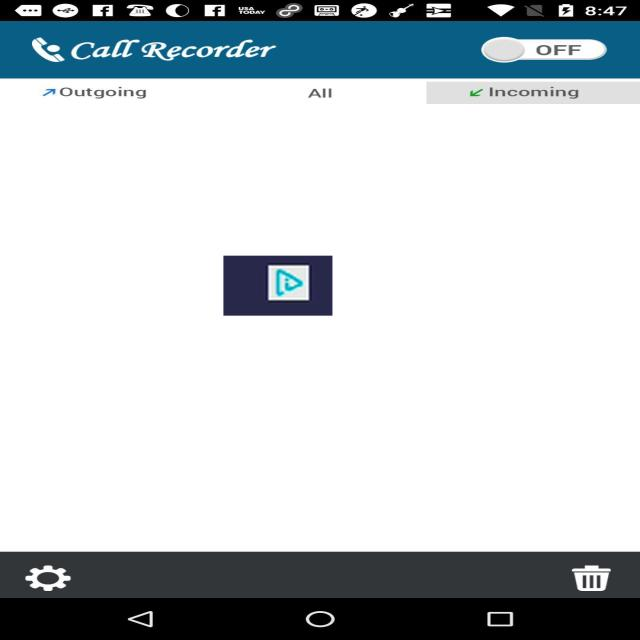sneaking: (224, 256, 332, 316)
